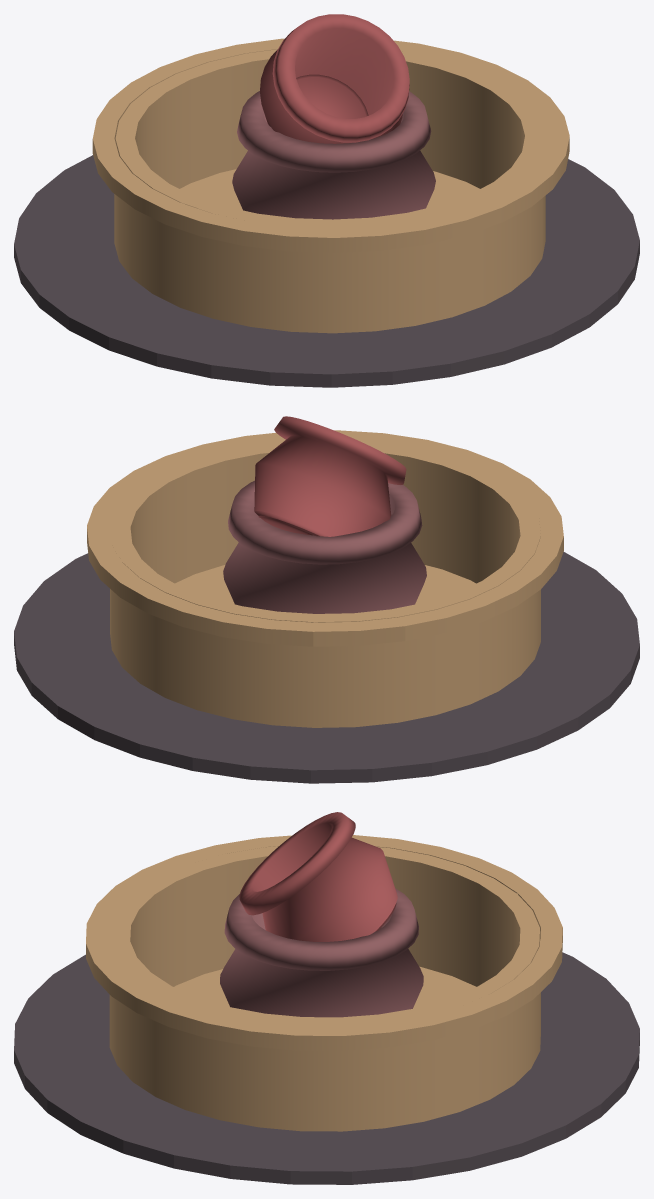
File: Fountain 1.fbx
The picture shows the model from 3 angles, top to bottom: view 1: azimuth 30°, elevation 25°; view 2: azimuth 150°, elevation 25°; view 3: azimuth 270°, elevation 25°; orthographic projection.
Visible parts, largest first — view 1: Cylinder.001, Cylinder, Cylinder.002, Cylinder.003; view 2: Cylinder.001, Cylinder, Cylinder.002, Cylinder.003; view 3: Cylinder.001, Cylinder, Cylinder.002, Cylinder.003.
Part boxes in pixels (x1,y1,x2,y2): Cylinder.001: (92, 38, 569, 333); Cylinder: (14, 155, 639, 387); Cylinder.002: (232, 91, 435, 219); Cylinder.003: (260, 14, 409, 143); Cylinder.001: (87, 430, 563, 727); Cylinder: (14, 552, 639, 783); Cylinder.002: (223, 480, 426, 613); Cylinder.003: (254, 416, 406, 536); Cylinder.001: (86, 835, 562, 1131); Cylinder: (14, 952, 639, 1184); Cylinder.002: (220, 888, 423, 1017); Cylinder.003: (239, 812, 397, 941).
Bounding box in the file's own units: 66.54 × 27.4 × 66.54.
